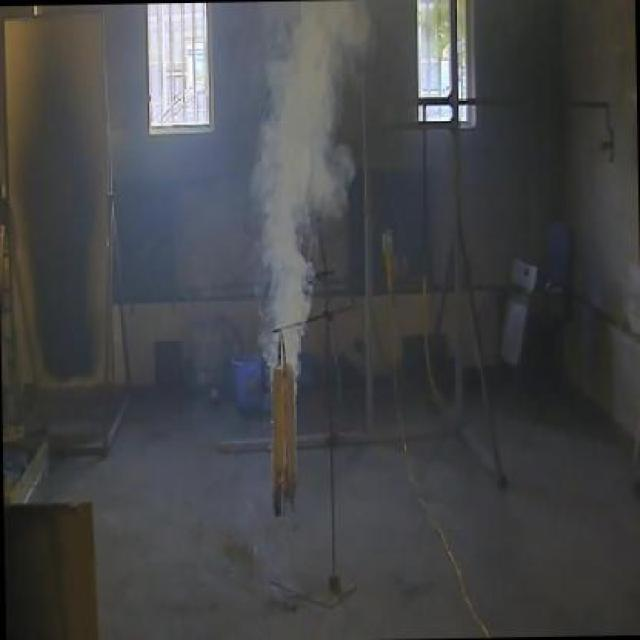fire: (248, 0, 378, 314)
